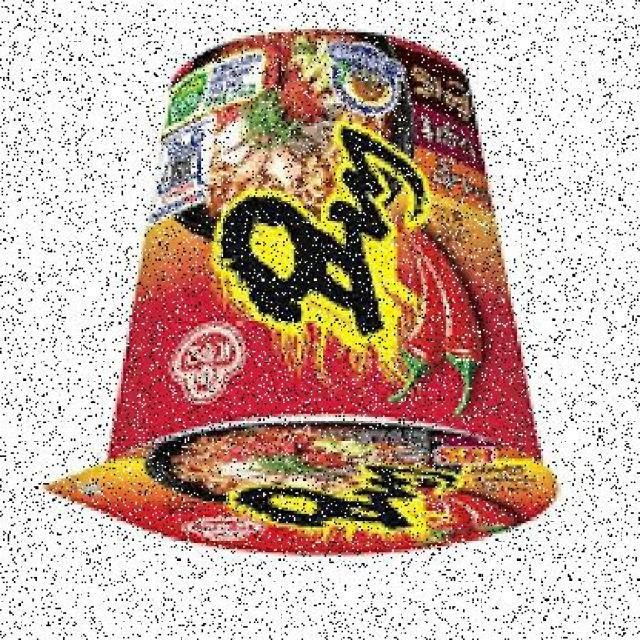Miscellaneous: (98, 8, 567, 567)
